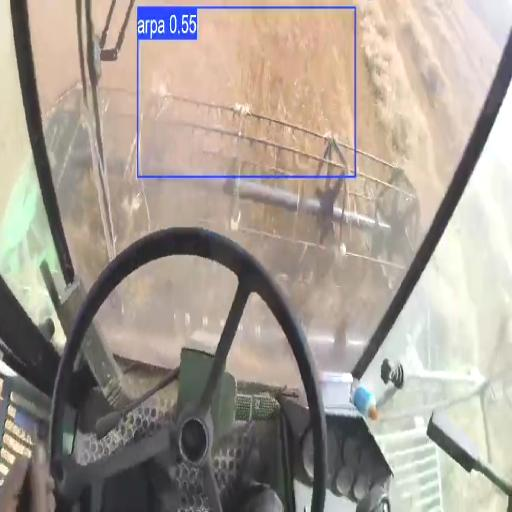arpa: (141, 10, 354, 140), (104, 18, 136, 89)
